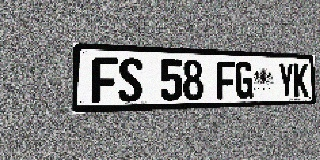5: (161, 59, 182, 101)
8: (183, 60, 203, 100)
F: (92, 57, 118, 103), (217, 61, 235, 99)
G: (235, 61, 253, 99)
K: (294, 63, 308, 97)
S: (118, 58, 143, 102)
Y: (278, 63, 294, 98)
